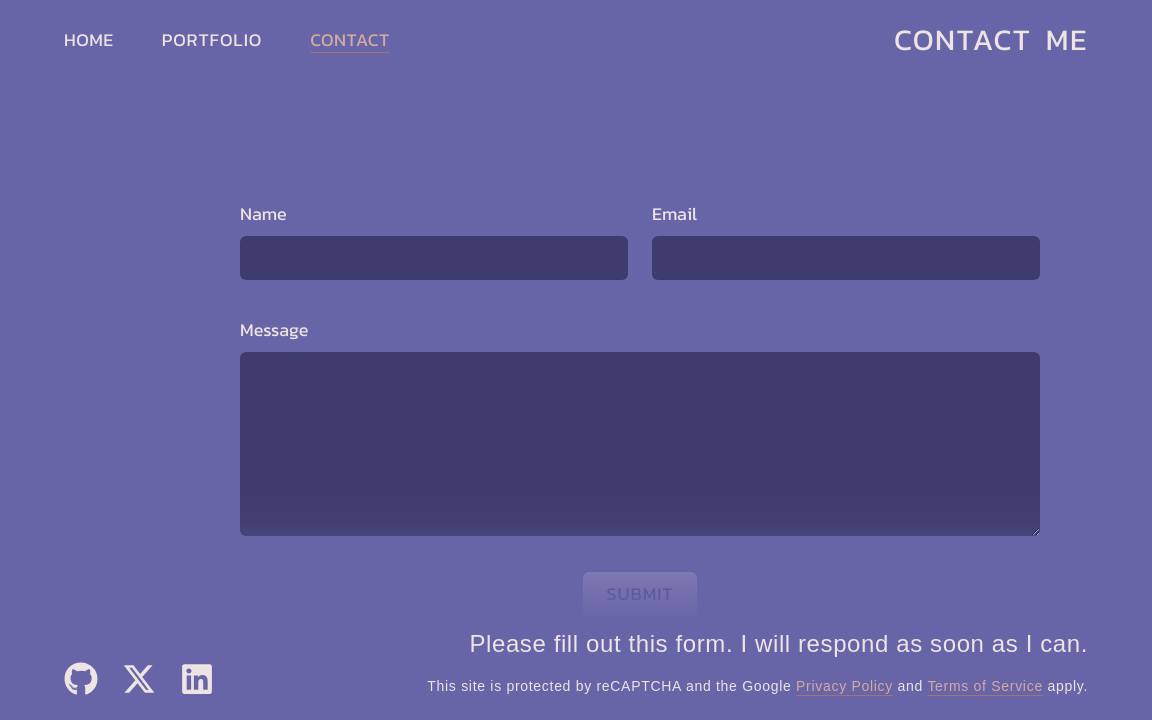
Test: Contact form Submit button › shows a field error only after blur, not while typing
The width and height of the screenshot is (1152, 720).
Type "not-an-email" into the field named "email" below "Email" at (846, 258), box [652,236,1040,280]
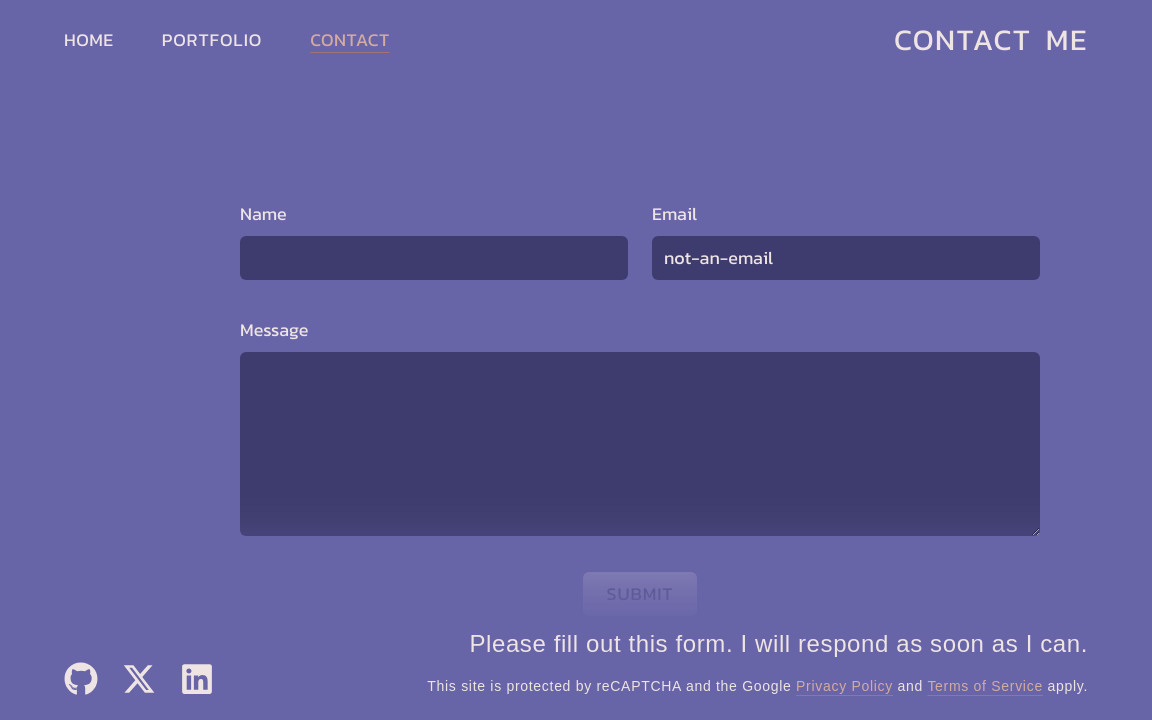
Expected: the text "invalid" is not shown
Leave the field named "email" below "Email", box [652,236,1040,280]
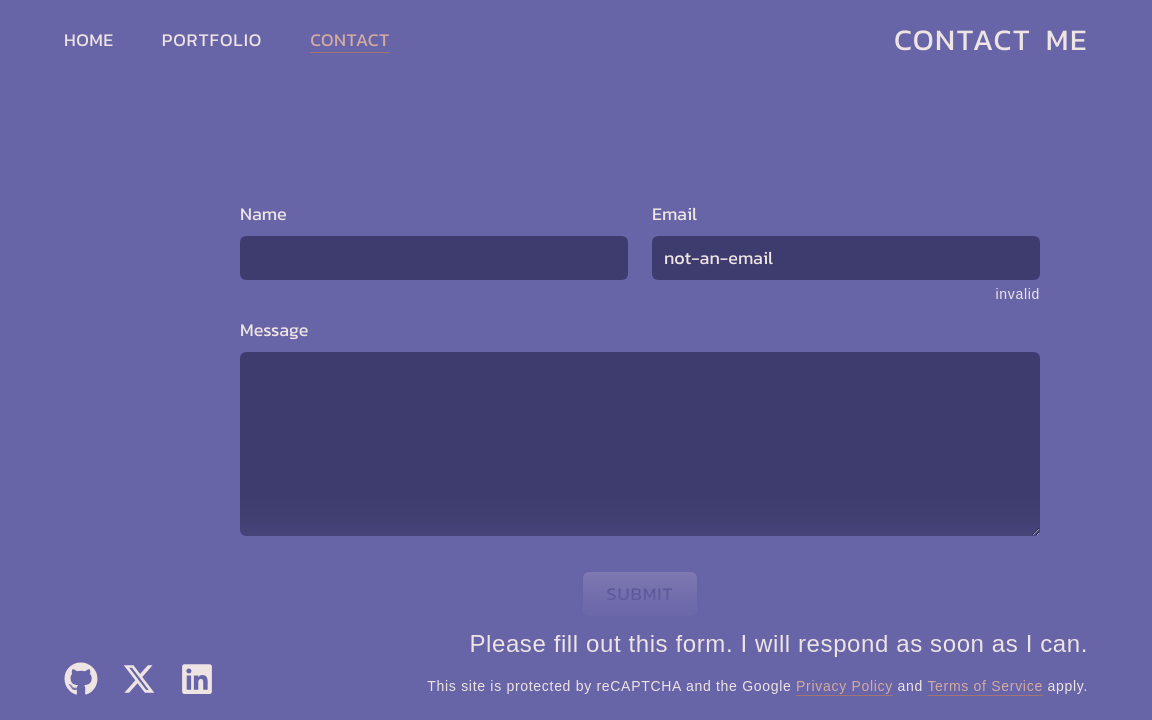
Result: the text "invalid" is shown at [995,280,1040,304]
